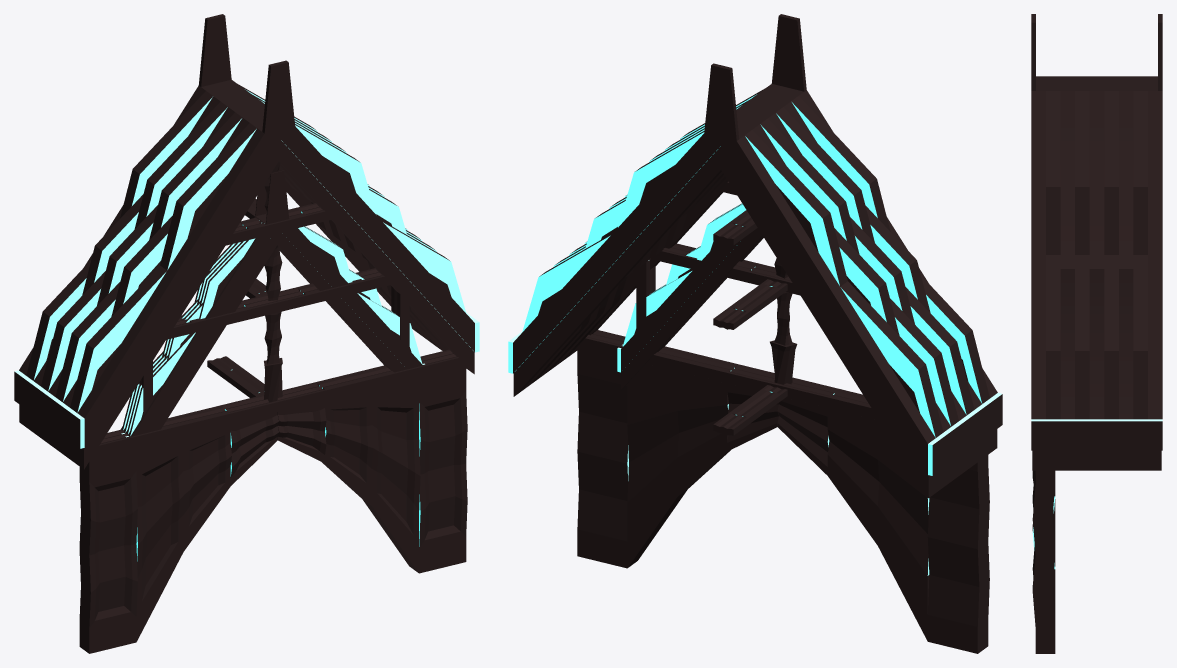
File: Goth_1.glb
3 renders of one model, left to right at view 1: azimuth 30°, elevation 25°; view 2: azimuth 150°, elevation 25°; view 3: azimuth 270°, elevation 25°, orthographic. The views are drawn at different scales.
Visible parts, largest first — view 1: Roof.031_Metal_0, Barrier.297, Barrier.298, Roof.032, Roof.031_LightEmi_0, Barrier.282, Barrier.281, Pillar.334, Barrier.286, Barrier.288, Barrier.285, Barrier.291_Metal_0 (+1 smaller); view 2: Roof.031_Metal_0, Barrier.298, Barrier.297, Roof.031_LightEmi_0, Roof.032, Barrier.282, Barrier.281, Pillar.334, Barrier.286, Barrier.291_Metal_0, Barrier.290_Metal_0, Barrier.295 (+1 smaller); view 3: Roof.031_Metal_0, Barrier.298, Roof.031_LightEmi_0.
Part boxes in pixels (x1,y1,x2,y2): Roof.031_Metal_0: (14, 14, 474, 469); Barrier.297: (79, 412, 278, 653); Barrier.298: (277, 366, 467, 573); Roof.032: (120, 170, 424, 437); Roof.031_LightEmi_0: (14, 89, 479, 448); Barrier.282: (276, 349, 466, 411); Barrier.281: (92, 395, 278, 457); Pillar.334: (264, 161, 282, 402); Barrier.286: (275, 268, 391, 311); Barrier.288: (226, 203, 332, 245); Barrier.285: (166, 294, 278, 339); Barrier.291_Metal_0: (207, 356, 264, 397); Roof.031_Metal_0: (513, 14, 1002, 498); Barrier.298: (577, 347, 779, 568); Barrier.297: (777, 397, 989, 653); Roof.031_LightEmi_0: (508, 94, 1001, 475); Roof.032: (617, 203, 763, 389); Barrier.282: (577, 330, 779, 390); Barrier.281: (777, 377, 879, 420); Pillar.334: (770, 258, 797, 384); Barrier.286: (656, 243, 781, 285); Barrier.291_Metal_0: (713, 385, 787, 435); Barrier.290_Metal_0: (713, 279, 787, 329); Barrier.295: (636, 258, 655, 331); Roof.031_Metal_0: (1031, 14, 1162, 470); Barrier.298: (1032, 470, 1055, 653); Roof.031_LightEmi_0: (1031, 419, 1162, 421).
Bounding box in the file's own units: 2100 × 2740 × 600.
